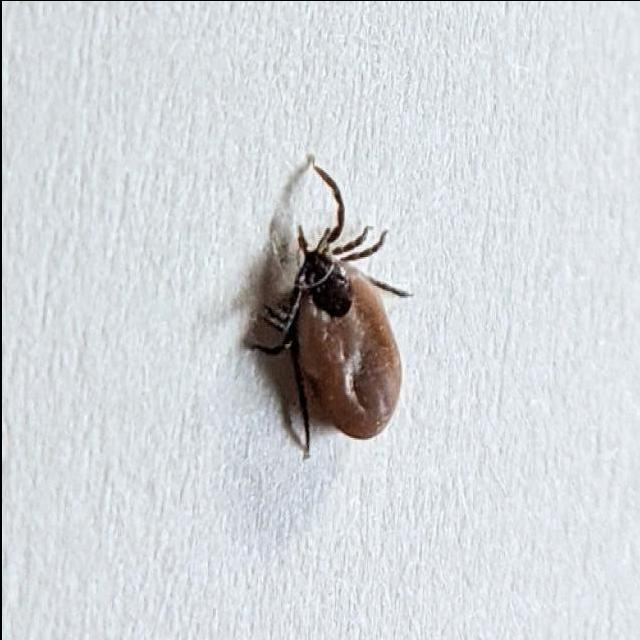Ixodes Ricinus-F-Fed: (242, 164, 401, 459)
